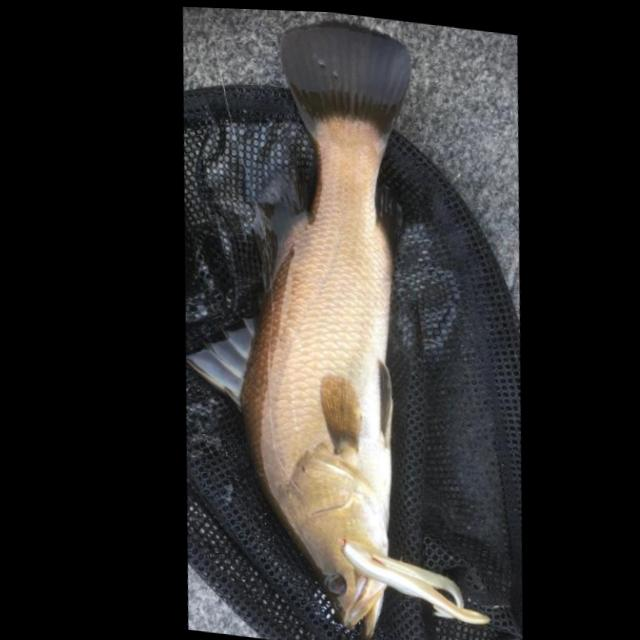Seabass: (125, 5, 469, 640)
